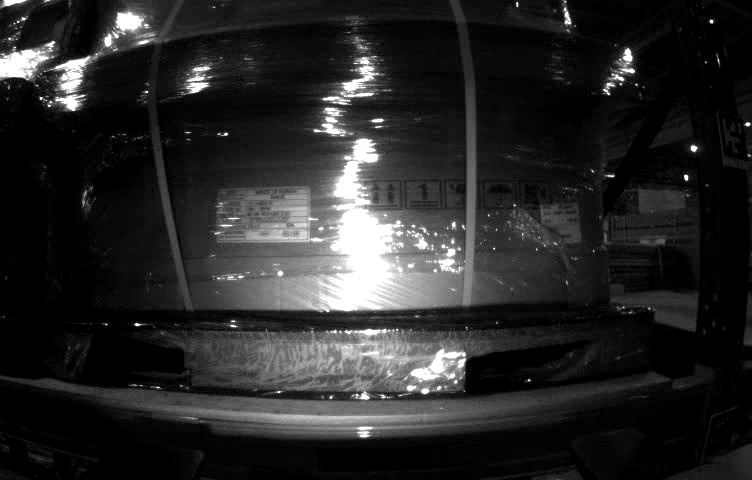True Barcode: (539, 199, 584, 245)
